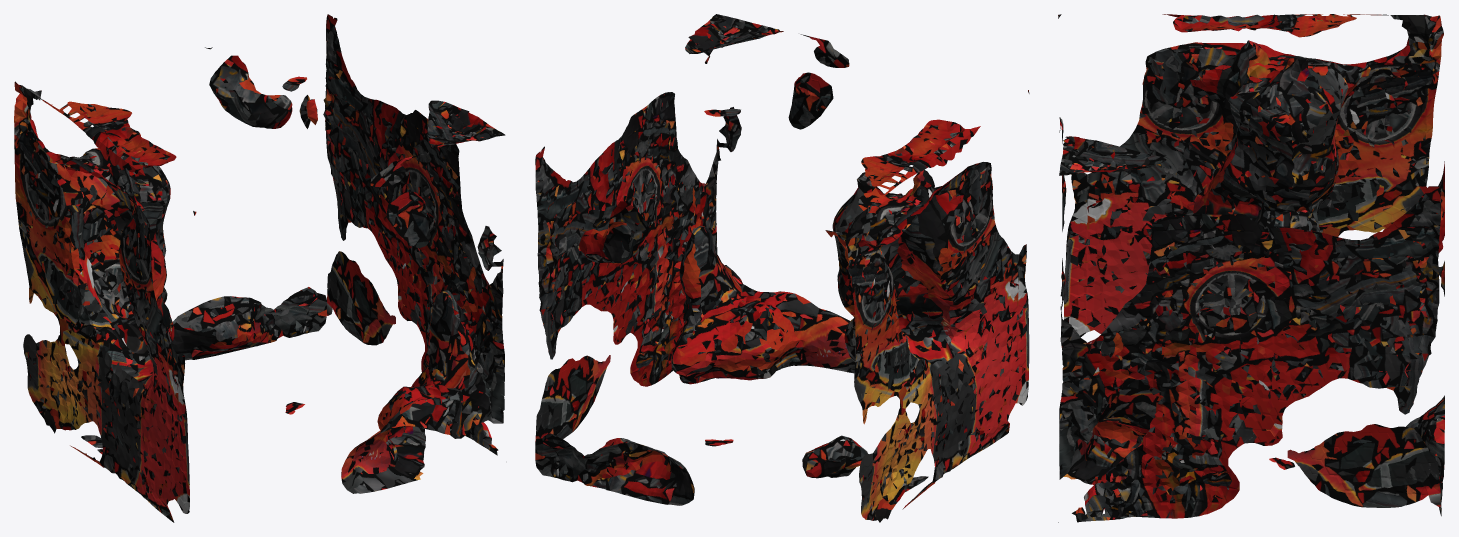
3 views of the same model, side by side, from view 1: azimuth 30°, elevation 25°; view 2: azimuth 150°, elevation 25°; view 3: azimuth 270°, elevation 25° (orthographic). The views are drawn at different scales.
Bounding box in the file's own units: 1.01 × 1.01 × 1.01.
